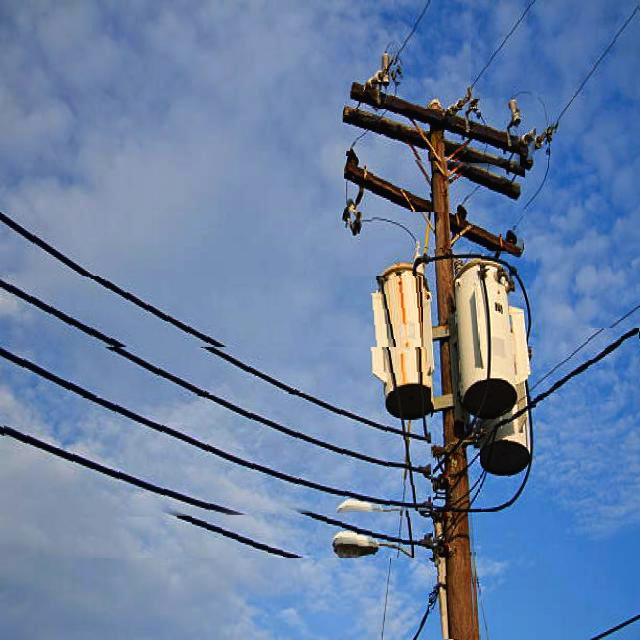crossarm: (344, 156, 524, 254), (350, 82, 535, 162), (345, 110, 521, 186)
pole: (430, 103, 476, 639)
transformer: (369, 271, 436, 432), (455, 262, 521, 413), (483, 378, 531, 472)
wire: (0, 213, 443, 450), (0, 277, 423, 468), (0, 347, 431, 513), (1, 422, 335, 558), (414, 251, 536, 512), (551, 0, 639, 133), (529, 328, 639, 405), (471, 0, 545, 99), (392, 2, 433, 65)
